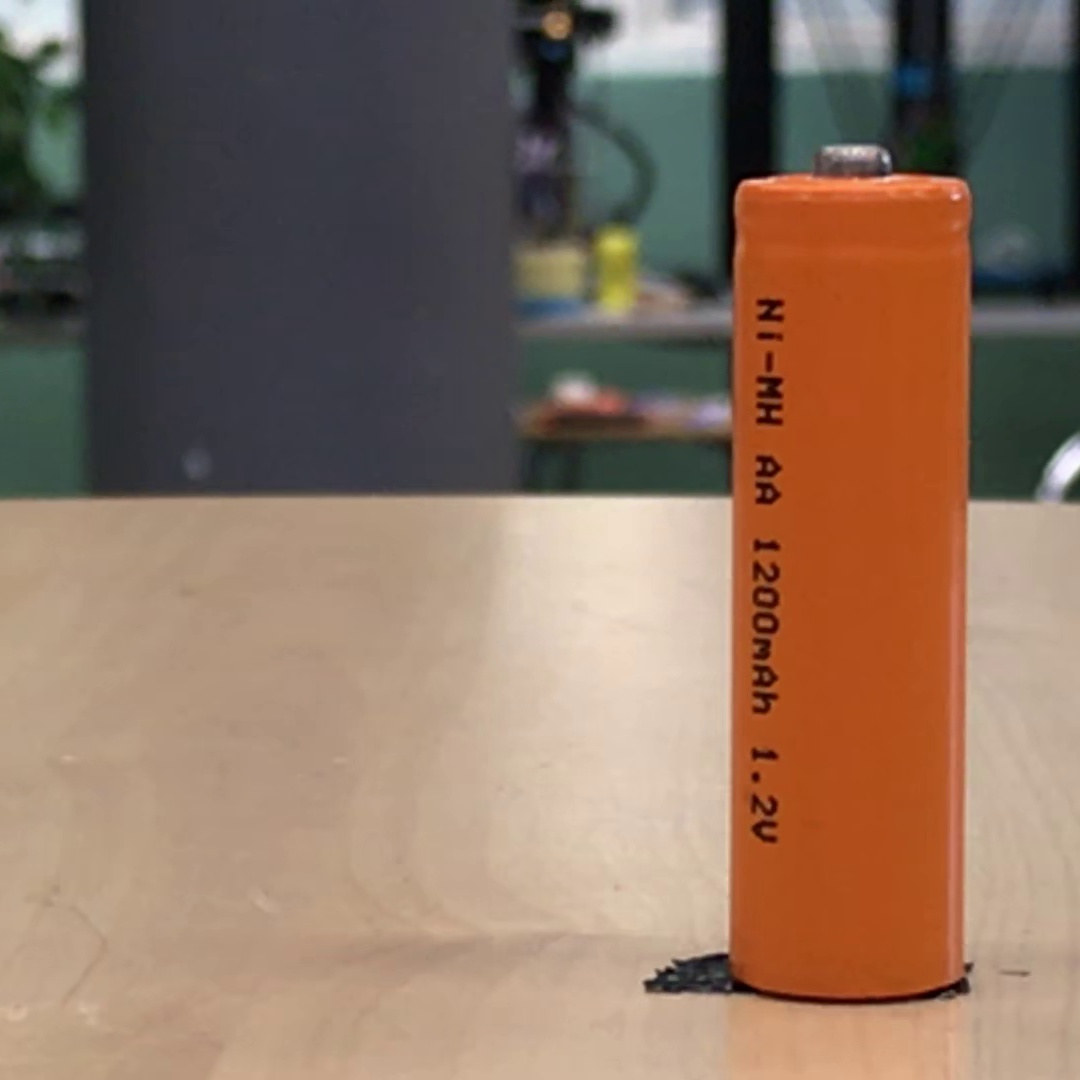keyword: (747, 289, 792, 435), (742, 738, 787, 853)
